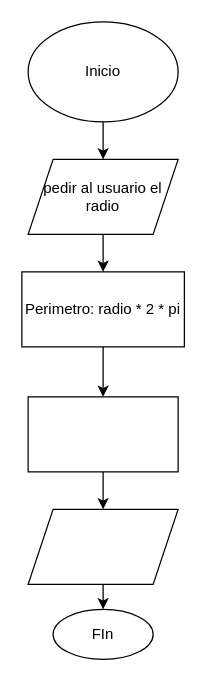
Some shapes in this 206 by 681 pixel diagram are drawn without their labels. The box of each missing label's shape, as (x1, y1, x2, y2) in pixels:
area: radio**2: (27, 396, 178, 472)
mostrar el area y el perimentro: (27, 508, 178, 584)
